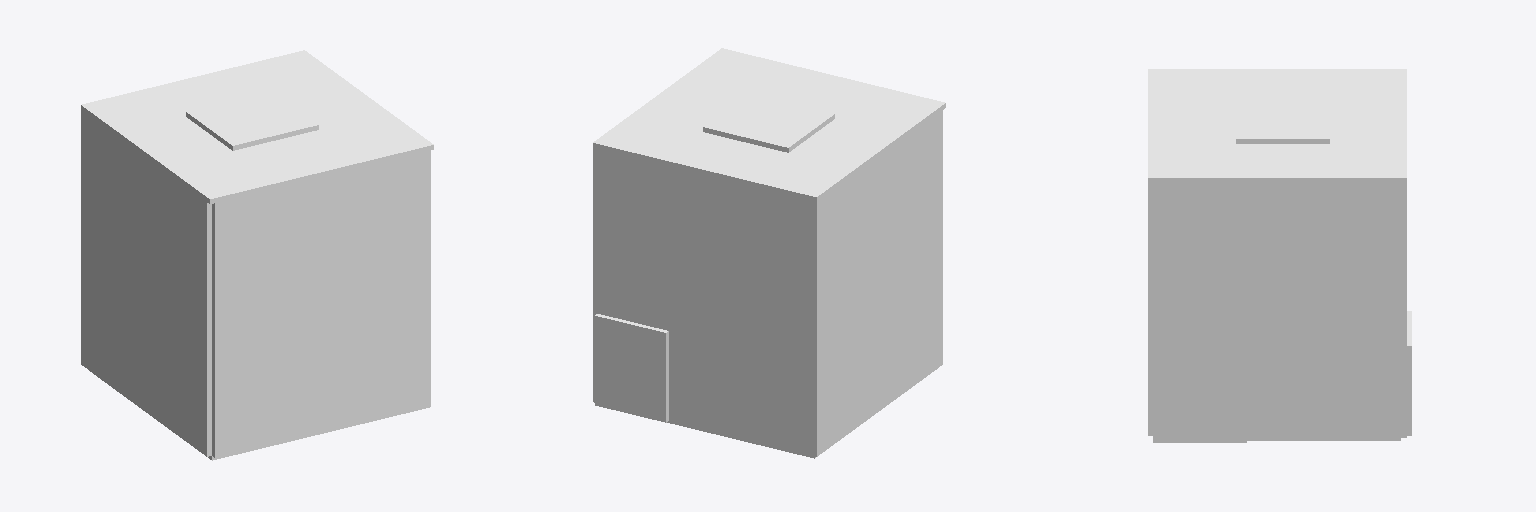
The model's file is color_cube.obj.
3 views of the same model, side by side, from view 1: azimuth 30°, elevation 25°; view 2: azimuth 150°, elevation 25°; view 3: azimuth 270°, elevation 25° (orthographic).
Parts seen in each view (by area): view 1: color_cube; view 2: color_cube; view 3: color_cube.
Part boxes in pixels (x1,y1,x2,y2): color_cube: (81,50,433,460); color_cube: (593,48,945,458); color_cube: (1148,69,1411,442).
Bounding box in the file's own units: 47 × 55 × 48.